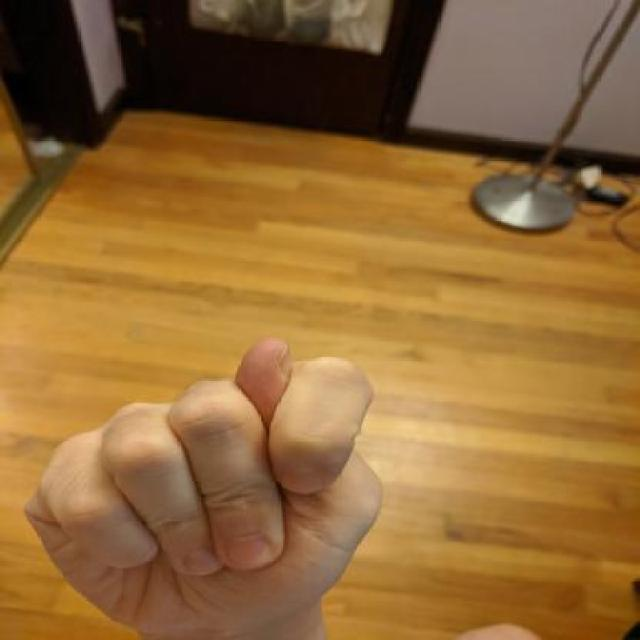T: (20, 344, 382, 640)
